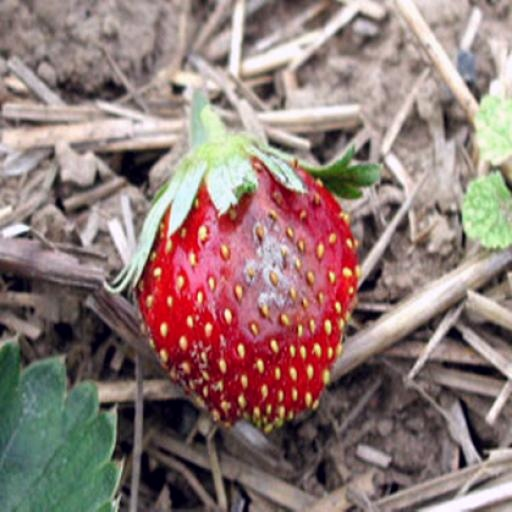Gray Mold: (204, 195, 346, 344)
